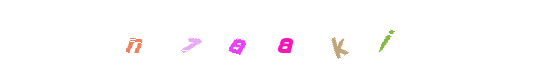1: (200, 0, 280, 80)
A: (214, 0, 294, 80), (230, 0, 310, 80)
J: (346, 0, 426, 80)
K: (245, 0, 325, 80)
N: (177, 0, 257, 80)
